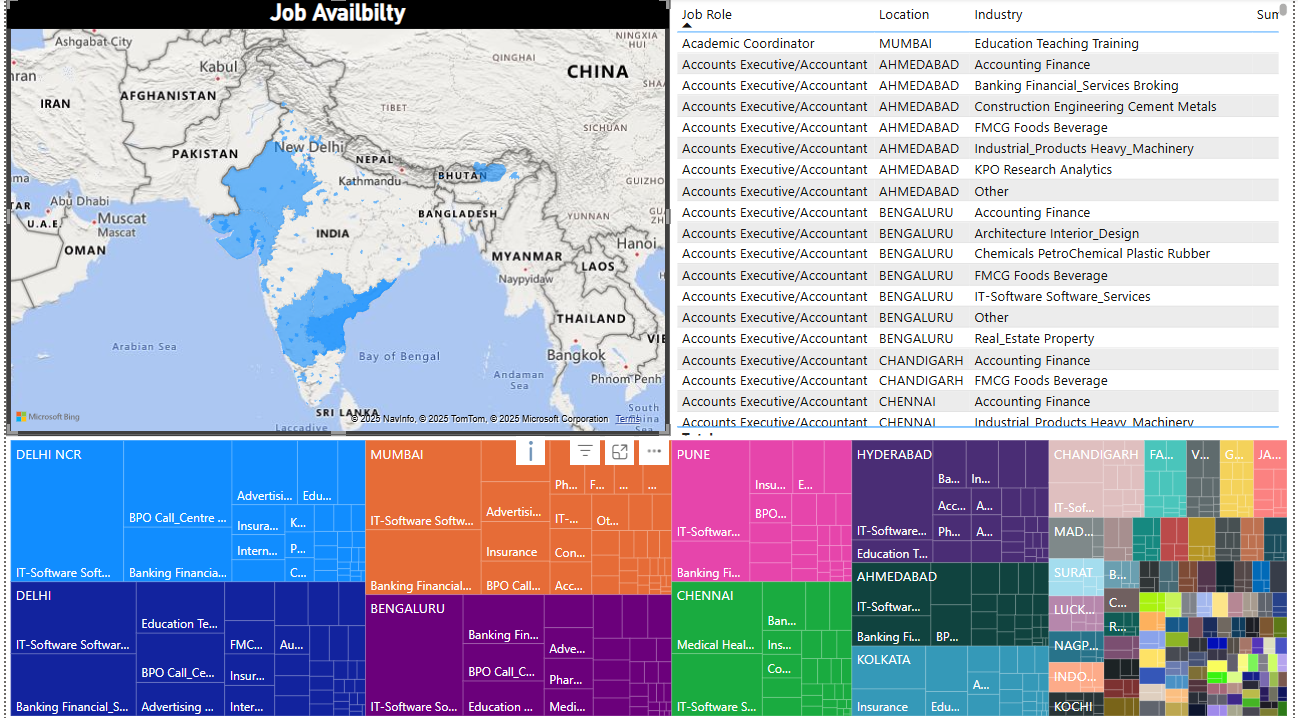

Layout of this report page (visuals, bound fields, positions):
{"tool":"powerbi","page":{"name":"Opportunity Map","canvas":[1280,720],"ordinal":4},"visuals":[{"type":"tableEx","fields":{"Values":["Job_Market_EntryLevel_India.Job Role","Job_Market_EntryLevel_India.Location","Job_Market_EntryLevel_India.Industry","Sum(Job_Market_EntryLevel_India.Salary Min)","Sum(Job_Market_EntryLevel_India.Salary Max)"]},"box":[661.2,0,618.8,461.2],"z":0},{"type":"treemap","fields":{"Group":["Job_Market_EntryLevel_India.Location"],"Values":["Job_Market_EntryLevel_India.Job Count"],"Details":["Job_Market_EntryLevel_India.Industry"]},"box":[0,435.7,1280,284.3],"z":1000},{"type":"filledMap","title":"Job Availbilty","fields":{"Category":["Job_Market_EntryLevel_India.Location"]},"box":[0,0,661,436],"z":2000}]}

Visuals, with their boxes in screenshot pixels (x1, y1, x2, y2), scaled from the page's 1280x720 canvas onto the 1298x718 screenshot:
tableEx - Job_Market_EntryLevel_India.Job Role x Job_Market_EntryLevel_India.Location: region(670, 0, 1297, 460)
treemap - Job_Market_EntryLevel_India.Location x Job_Market_EntryLevel_India.Job Count: region(0, 434, 1297, 717)
"Job Availbilty" filledMap: region(0, 0, 670, 435)
